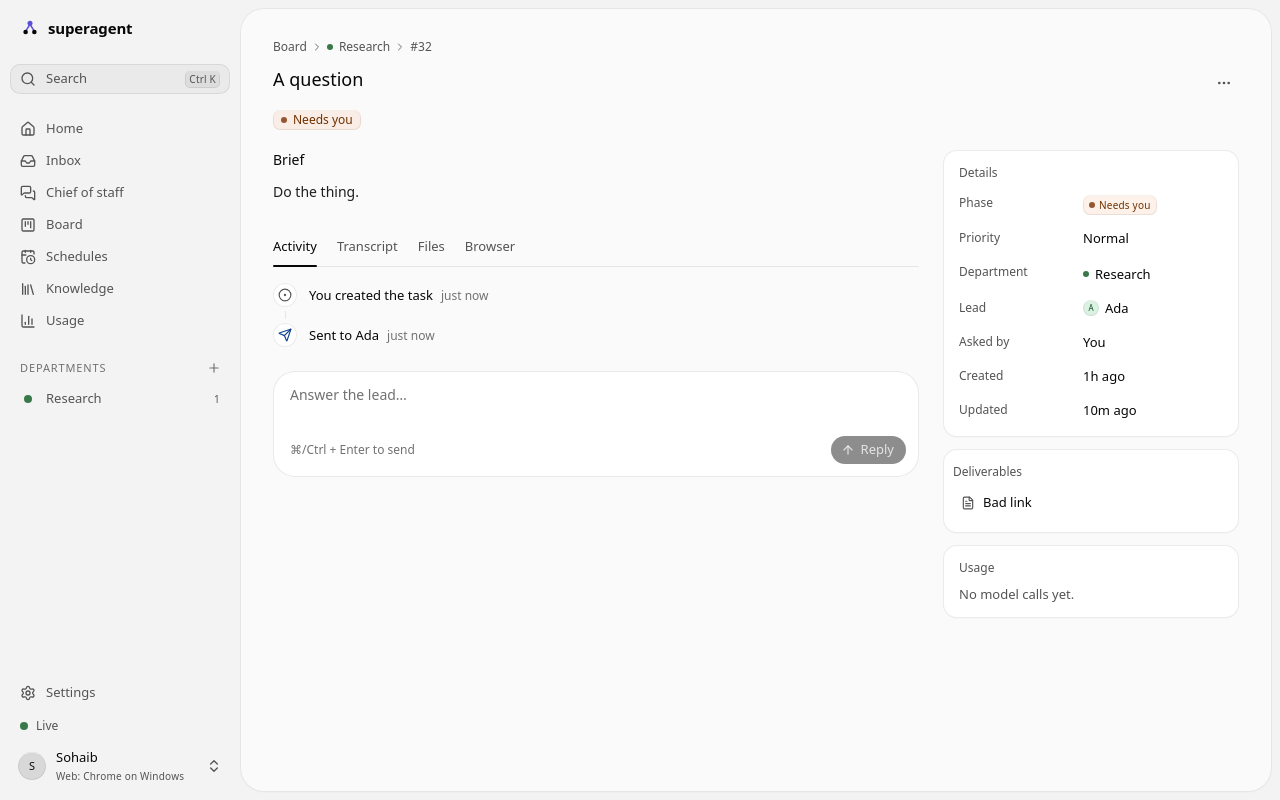
Test: a task › offers no "send back" on a waiting task: answering the lead does that
What coordinates should you click on to do the following:
click the button named "More actions"
I would click on:
 (1224, 83)
Its box is [1209, 68, 1239, 98].
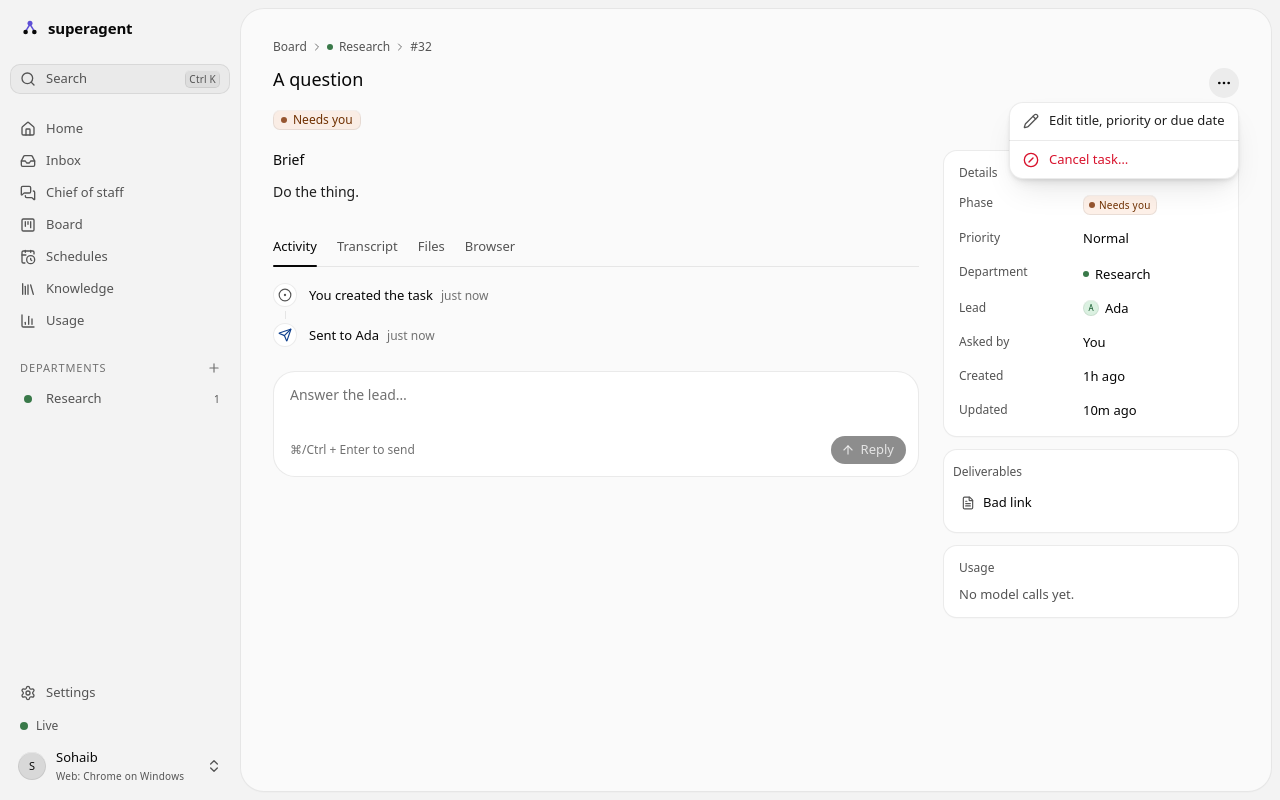
Expected: the text box named "Message the lead" is shown, [274, 372, 918, 436]
Expected: the menu item "Cancel task…" is shown, [1023, 150, 1128, 168]
